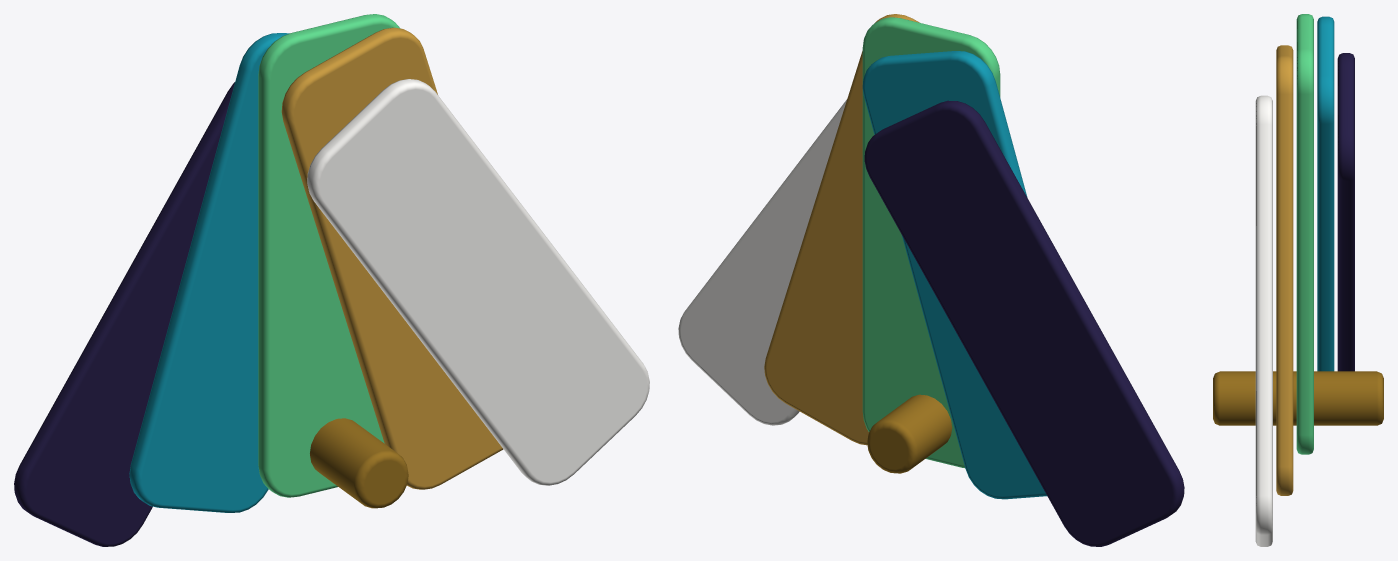
Rendered from ui_swatches.glb.
3 renders of one model, left to right at view 1: azimuth 30°, elevation 25°; view 2: azimuth 150°, elevation 25°; view 3: azimuth 270°, elevation 25°, orthographic. The views are drawn at different scales.
Visible parts, largest first — view 1: ui_swatches; view 2: ui_swatches; view 3: ui_swatches.
Boxes of the visible parts, x1=… form: ui_swatches: x1=14, y1=14, x2=649, y2=546; ui_swatches: x1=678, y1=14, x2=1184, y2=546; ui_swatches: x1=1213, y1=14, x2=1383, y2=546.
Size of the model in its own units: 1.72 by 1.38 by 0.5.
